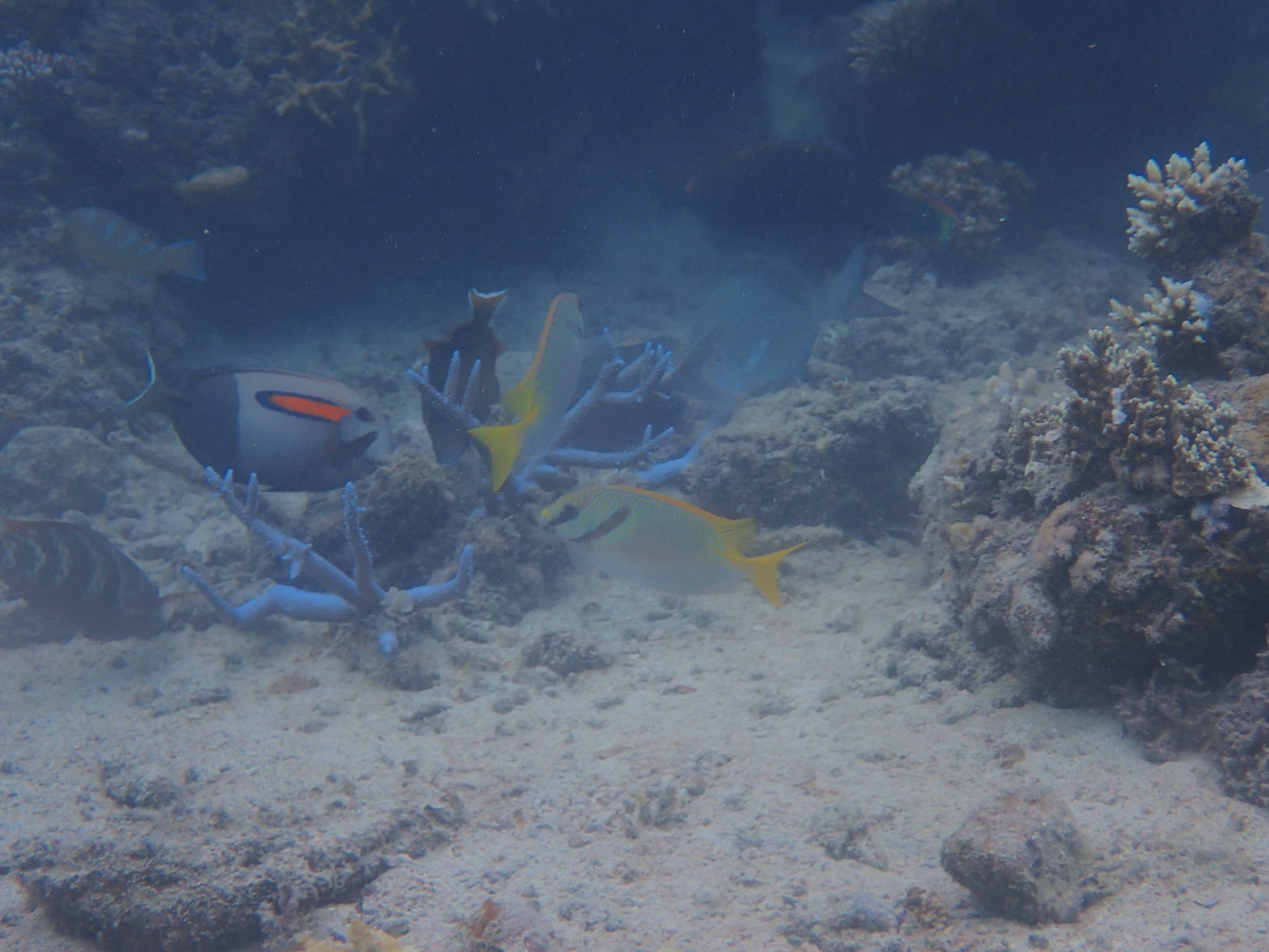fishbody: (533, 475, 795, 609), (473, 282, 590, 491)
fishhead: (543, 487, 626, 558)
